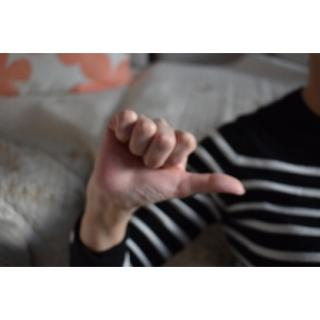DAD: (89, 106, 248, 221)
